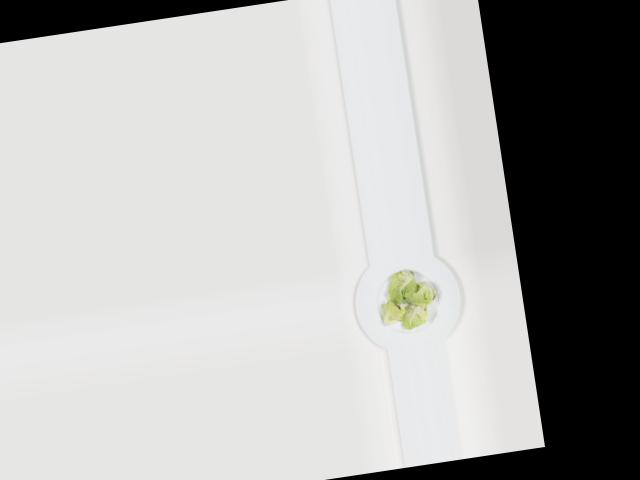lettuce: (372, 260, 442, 332)
